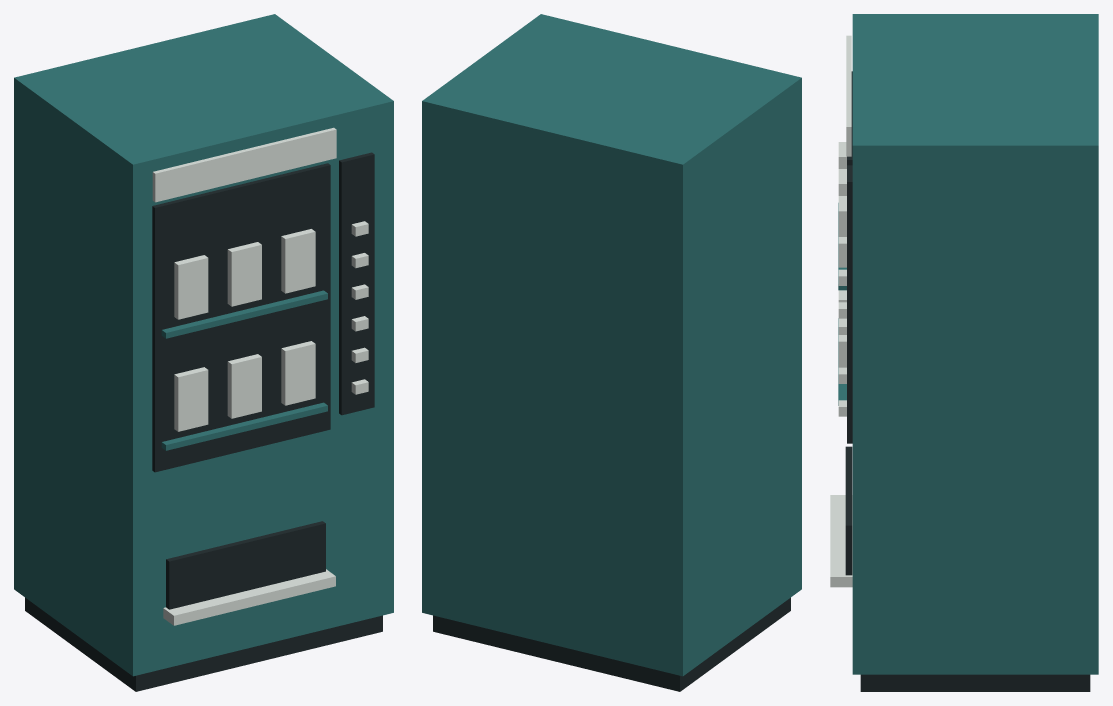
Rendered from prop_vending_campus_001.glb.
3 views of the same model, side by side, from view 1: azimuth 30°, elevation 25°; view 2: azimuth 150°, elevation 25°; view 3: azimuth 270°, elevation 25° (orthographic). The views are drawn at different scales.
Parts seen in each view (by area): view 1: Body, Product_Window, Pickup_Opening, Controls, Header, Foot, Pickup_Lip, Product_1_0, Product_2_1, Product_0_0, Product_2_0, Product_0_1 (+3 smaller); view 2: Body, Foot; view 3: Body, Foot, Controls, Pickup_Lip, Pickup_Opening, Header, Product_2_1.
Part boxes in pixels (left/top/right/bottom): Body: left=14, top=14, right=393, bottom=676; Product_Window: left=152, top=163, right=330, bottom=472; Pickup_Opening: left=166, top=521, right=325, bottom=609; Controls: left=339, top=152, right=374, bottom=415; Header: left=152, top=127, right=336, bottom=202; Foot: left=25, top=597, right=382, bottom=691; Pickup_Lip: left=163, top=569, right=335, bottom=625; Product_1_0: left=227, top=354, right=261, bottom=418; Product_2_1: left=281, top=229, right=315, bottom=293; Product_0_0: left=174, top=367, right=208, bottom=431; Product_2_0: left=281, top=341, right=315, bottom=405; Product_0_1: left=174, top=255, right=208, bottom=319; Body: left=422, top=14, right=801, bottom=676; Foot: left=433, top=597, right=790, bottom=691; Body: left=852, top=14, right=1098, bottom=674; Foot: left=860, top=674, right=1090, bottom=691; Controls: left=847, top=165, right=852, bottom=443; Pickup_Lip: left=830, top=495, right=852, bottom=587; Pickup_Opening: left=845, top=446, right=852, bottom=575; Header: left=846, top=35, right=851, bottom=156; Product_2_1: left=838, top=196, right=846, bottom=267.
Bounding box in the file's own units: 0.95 × 1.85 × 0.8175.
